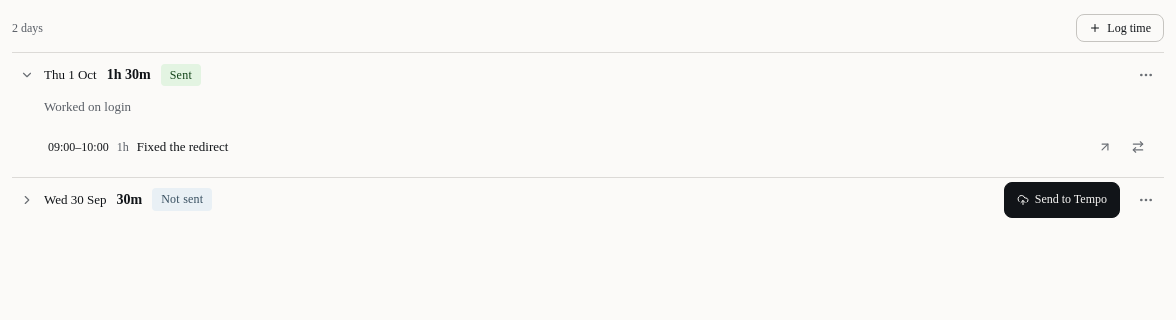
sync to Tempo › shows errors from the real run
Expected: the text "2 days" is shown, x1=12 y1=19 x2=43 y2=37
Click the button with aria-label "Send to Tempo, Wed 30 Sep" at (1062, 200), box x1=1004 y1=182 x2=1120 y2=218
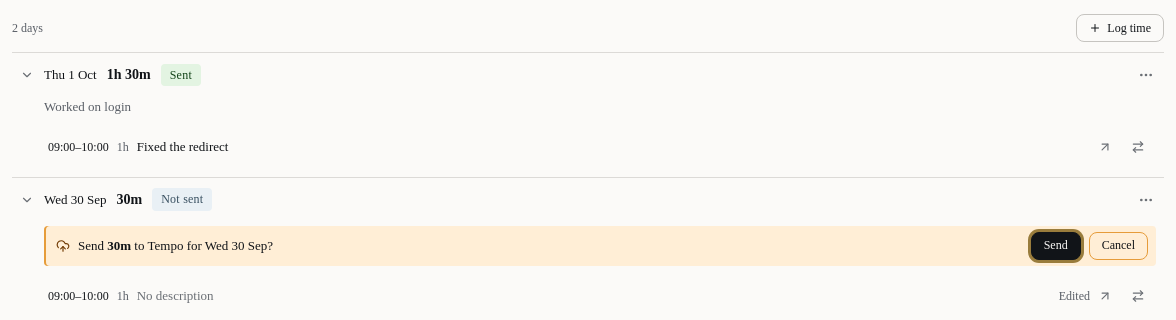
Click the button "Send" at (1056, 246), box x1=1031 y1=232 x2=1081 y2=260
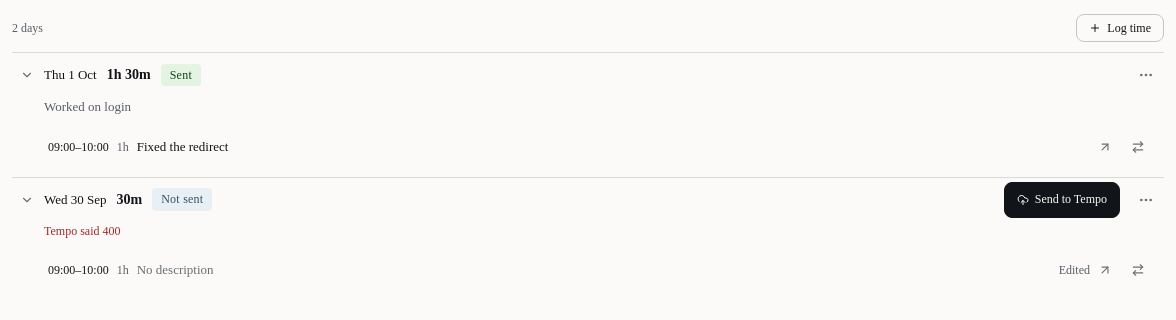
Expected: the text "Tempo said 400" is shown, x1=44 y1=224 x2=120 y2=238
